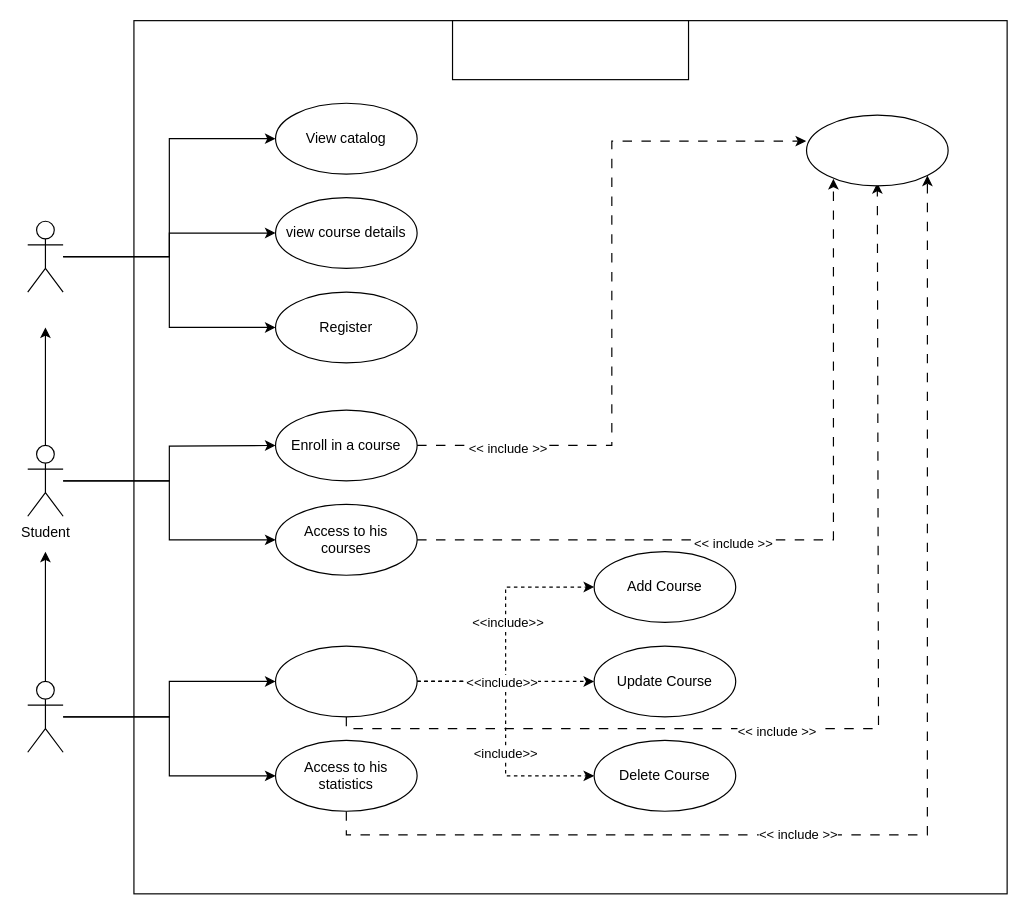
Image size: 1028x914. Some labels were removed from this diagram. The centre of each missing label's shape, as x and y in pixels:
"Authentication" belongs at point 876,150.
"Course Management" belongs at point 345,681.
"Geust" belongs at point 45,256.
"GoLearning" belongs at point 570,49.
"Teacher" belongs at point 45,716.
